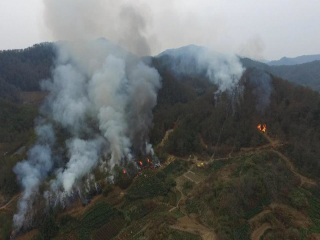smoke: (25, 8, 162, 202), (173, 40, 253, 101)
